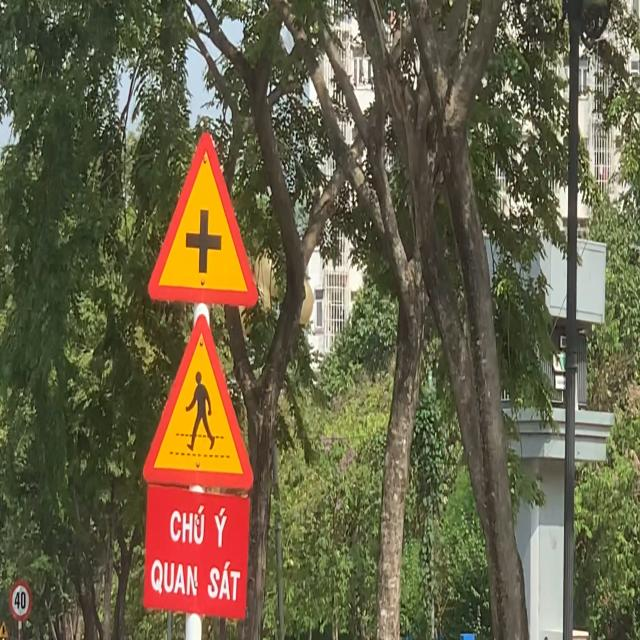Duong giao nhau: (146, 130, 260, 310)
Nguoi di bo cat ngang: (141, 313, 255, 492)
Toc do toi da: (8, 580, 32, 621)
